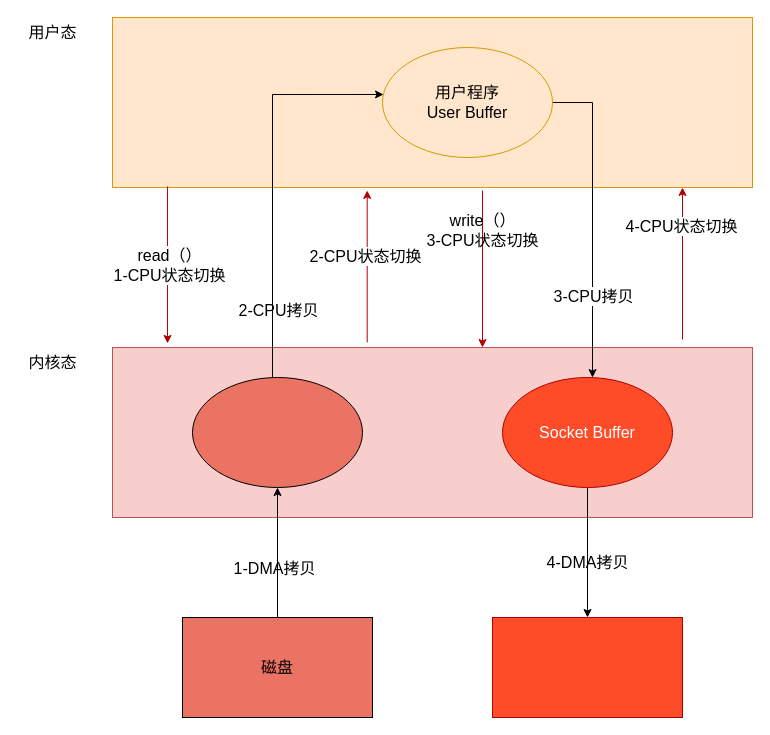
The diagram is 770 pixels wide and 735 high, and some of its shapes have lost their labels. The shapes that lost their labels are listed below. From the top down, each one's centre as x and y in pixels, then its label:
At [277,432]: "Kernal Buffer".
At [587,667]: "网卡socket".
